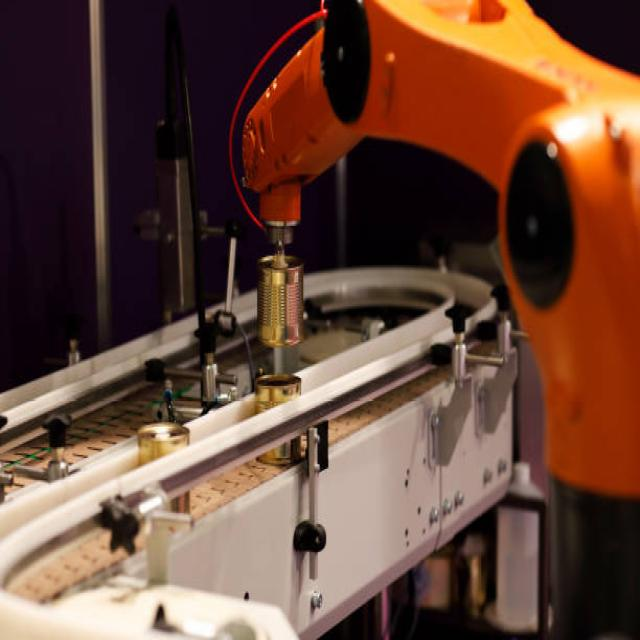Robotic-arm: (230, 2, 640, 504)
